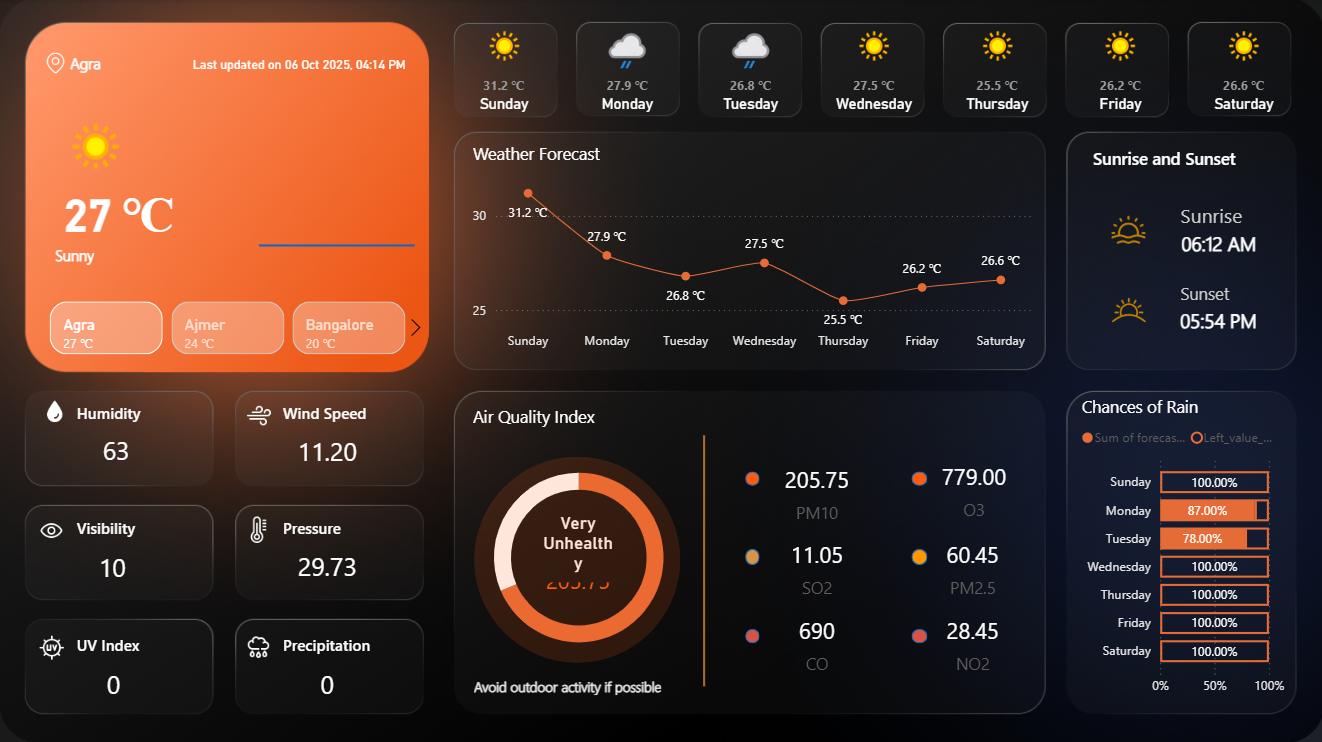

The dashboard page shown, as its layout file describes it:
{"tool":"powerbi","page":{"name":"Page 1","canvas":[1280,720],"ordinal":0},"visuals":[{"type":"advancedSlicerVisual","fields":{"Values":["Locations.location.name"]},"box":[24.2,287.6,393.2,61.1],"z":0},{"type":"card","fields":{"Values":["_Measures.Curr_Temp_C"]},"box":[44.6,162.9,143.6,84.5],"z":1000},{"type":"shape","box":[54.7,227.8,195.9,38.2],"z":2000},{"type":"shape","box":[68.4,37.1,99.8,48.5],"z":3000},{"type":"image","box":[32.8,47,44.2,29.9],"z":4000},{"type":"card","fields":{"Values":["Agra.LastRefresh"]},"box":[178.2,44.2,222.4,41.3],"z":5000},{"type":"cardVisual","fields":{"Data":["Min(Current.current.condition.icon)"]},"box":[33.1,85.2,101.8,84],"z":6000},{"type":"image","box":[36.9,383,33,31],"z":7000},{"type":"image","box":[232.8,384.3,35.6,34.4],"z":8000},{"type":"image","box":[33.1,496.2,35.6,34.4],"z":9000},{"type":"image","box":[232.8,495,35.6,35.6],"z":10000},{"type":"image","box":[34.4,608.2,34.4,35.6],"z":11000},{"type":"image","box":[232.8,608.2,35.6,35.6],"z":12000},{"type":"textbox","box":[70,384.3,86.5,35.6],"z":13000},{"type":"textbox","box":[268.5,384.3,95.4,35.6],"z":14000},{"type":"textbox","box":[268.5,608.2,95.4,35.6],"z":15000},{"type":"textbox","box":[70,496.2,86.5,34.4],"z":16000},{"type":"textbox","box":[70,608.2,86.5,36.9],"z":17000},{"type":"textbox","box":[268.5,496.2,95.4,35.6],"z":18000},{"type":"card","fields":{"Values":["Sum(Current.current.humidity)"]},"box":[71.3,413.5,84,47.1],"z":19000},{"type":"card","fields":{"Values":["Sum(Current.current.wind_kph)"]},"box":[274.8,414.8,84,47.1],"z":20000},{"type":"card","fields":{"Values":["Sum(Current.current.pressure_in)"]},"box":[274.8,530.6,84,36.9],"z":21000},{"type":"card","fields":{"Values":["Sum(Current.current.vis_km)"]},"box":[67.4,531.8,84,36.9],"z":22000},{"type":"card","fields":{"Values":["Sum(Current.current.precip_in)"]},"box":[274.8,643.8,84,36.9],"z":23000},{"type":"card","fields":{"Values":["Sum(Current.current.uv)"]},"box":[68.7,643.8,84,36.9],"z":24000},{"type":"advancedSlicerVisual","fields":{"Values":["Forecast_Day.Day_Name"]},"box":[427.5,12.7,838.5,114.5],"z":25000},{"type":"lineChart","title":"Weather Forecast","fields":{"Y":["Sum(Forecast_Day.forecast.forecastday.day.avgtemp_c)"],"Category":["Forecast_Day.Day_Name"]},"box":[452.1,137.5,550.1,211.1],"z":26000},{"type":"textbox","box":[1051.2,137.5,175.7,35.4],"z":27000},{"type":"shape","box":[1141.3,211.1,85.7,48.3],"z":28000},{"type":"shape","box":[1140.1,285.9,90.5,49.5],"z":29000},{"type":"textbox","box":[1135.3,267.8,95.3,35],"z":30000},{"type":"textbox","box":[1135.3,191.8,95.3,35],"z":31000},{"type":"image","box":[1064.1,273.9,53.1,53.1],"z":32000},{"type":"image","box":[1068.9,201.5,42.2,42.2],"z":33000},{"type":"hundredPercentStackedBarChart","title":"Chances of Rain","fields":{"Y":["Sum(Forecast_Day.forecast.forecastday.day.daily_chance_of_rain)","Current.Left_value_Rain"],"Category":["Forecast_Day.Day_Name"]},"box":[1040.1,382.8,205.9,298.3],"z":34000},{"type":"textbox","box":[452.6,387.8,138.6,34.3],"z":35000},{"type":"card","fields":{"Values":["Sum(Current.current.air_quality.pm10)"]},"box":[747.5,438.6,83.4,74.1],"z":36000},{"type":"card","fields":{"Values":["Sum(Current.current.air_quality.pm2_5)"]},"box":[897.3,512.7,84.9,72.6],"z":37000},{"type":"card","fields":{"Values":["Sum(Current.current.air_quality.no2)"]},"box":[897.3,585.3,84.9,74.1],"z":38000},{"type":"card","fields":{"Values":["Sum(O3 Summary_Table.current.air_quality.o3)"]},"box":[898.8,437.1,84.9,74.1],"z":39000},{"type":"card","fields":{"Values":["Sum(Current.current.air_quality.so2)"]},"box":[747.5,512.7,83.4,72.6],"z":40000},{"type":"card","fields":{"Values":["Sum(Current.current.air_quality.co)"]},"box":[747.5,585.3,83.4,74.1],"z":41000},{"type":"shape","box":[719.7,455.6,13.9,13.9],"z":42000},{"type":"shape","box":[719.7,531.3,13.9,15.4],"z":43000},{"type":"shape","box":[719.7,608.5,13.9,13.9],"z":44000},{"type":"shape","box":[880.3,455.6,15.4,13.9],"z":45000},{"type":"shape","box":[880.3,531.3,15.4,15.4],"z":46000},{"type":"shape","box":[880.3,608.5,15.4,13.9],"z":47000},{"type":"shape","box":[251,163,150,150],"z":47001},{"type":"shape","box":[605.4,421.6,149.8,242.5],"z":47002},{"type":"card","fields":{"Values":["Sum(Current.current.air_quality.pm10)"]},"box":[512.7,495.8,92.7,92.7],"z":47003},{"type":"donutChart","fields":{"Y":["Sum(Current.current.air_quality.pm10)","Current.Left_value_PM10"]},"box":[452.5,423.2,214.7,231.7],"z":47005},{"type":"shape","box":[458.7,441.7,199.2,199.2],"z":47006},{"type":"shape","box":[458.7,637.8,199.2,49.4],"z":47007}]}

Visuals, with their boxes in screenshot pixels (x1, y1, x2, y2), scaled from the page's 1280x720 canvas onto the 1322x742 screenshot:
advancedSlicerVisual - Locations.location.name: x1=25, y1=296, x2=431, y2=359
card - _Measures.Curr_Temp_C: x1=46, y1=168, x2=194, y2=255
shape: x1=56, y1=235, x2=259, y2=274
shape: x1=71, y1=38, x2=174, y2=88
image: x1=34, y1=48, x2=80, y2=79
card - Agra.LastRefresh: x1=184, y1=46, x2=414, y2=88
cardVisual - Min(Current.current.condition.icon): x1=34, y1=88, x2=139, y2=174
image: x1=38, y1=395, x2=72, y2=427
image: x1=240, y1=396, x2=277, y2=431
image: x1=34, y1=511, x2=71, y2=547
image: x1=240, y1=510, x2=277, y2=547
image: x1=36, y1=627, x2=71, y2=663
image: x1=240, y1=627, x2=277, y2=663
textbox: x1=72, y1=396, x2=162, y2=433
textbox: x1=277, y1=396, x2=376, y2=433
textbox: x1=277, y1=627, x2=376, y2=663
textbox: x1=72, y1=511, x2=162, y2=547
textbox: x1=72, y1=627, x2=162, y2=665
textbox: x1=277, y1=511, x2=376, y2=548
card - Sum(Current.current.humidity): x1=74, y1=426, x2=160, y2=475
card - Sum(Current.current.wind_kph): x1=284, y1=427, x2=371, y2=476
card - Sum(Current.current.pressure_in): x1=284, y1=547, x2=371, y2=585
card - Sum(Current.current.vis_km): x1=70, y1=548, x2=156, y2=586
card - Sum(Current.current.precip_in): x1=284, y1=663, x2=371, y2=701
card - Sum(Current.current.uv): x1=71, y1=663, x2=158, y2=701
advancedSlicerVisual - Forecast_Day.Day_Name: x1=442, y1=13, x2=1308, y2=131
"Weather Forecast" lineChart: x1=467, y1=142, x2=1035, y2=359
textbox: x1=1086, y1=142, x2=1267, y2=178
shape: x1=1179, y1=218, x2=1267, y2=267
shape: x1=1178, y1=295, x2=1271, y2=346
textbox: x1=1173, y1=276, x2=1271, y2=312
textbox: x1=1173, y1=198, x2=1271, y2=234
image: x1=1099, y1=282, x2=1154, y2=337
image: x1=1104, y1=208, x2=1148, y2=251
"Chances of Rain" hundredPercentStackedBarChart: x1=1074, y1=394, x2=1287, y2=702
textbox: x1=467, y1=400, x2=611, y2=435
card - Sum(Current.current.air_quality.pm10): x1=772, y1=452, x2=858, y2=528
card - Sum(Current.current.air_quality.pm2_5): x1=927, y1=528, x2=1014, y2=603
card - Sum(Current.current.air_quality.no2): x1=927, y1=603, x2=1014, y2=680
card - Sum(O3 Summary_Table.current.air_quality.o3): x1=928, y1=450, x2=1016, y2=527
card - Sum(Current.current.air_quality.so2): x1=772, y1=528, x2=858, y2=603
card - Sum(Current.current.air_quality.co): x1=772, y1=603, x2=858, y2=680
shape: x1=743, y1=470, x2=758, y2=484
shape: x1=743, y1=548, x2=758, y2=563
shape: x1=743, y1=627, x2=758, y2=641
shape: x1=909, y1=470, x2=925, y2=484
shape: x1=909, y1=548, x2=925, y2=563
shape: x1=909, y1=627, x2=925, y2=641
shape: x1=259, y1=168, x2=414, y2=323
shape: x1=625, y1=434, x2=780, y2=684
card - Sum(Current.current.air_quality.pm10): x1=530, y1=511, x2=625, y2=606
donutChart - Sum(Current.current.air_quality.pm10) x Current.Left_value_PM10: x1=467, y1=436, x2=689, y2=675
shape: x1=474, y1=455, x2=679, y2=660
shape: x1=474, y1=657, x2=679, y2=708
